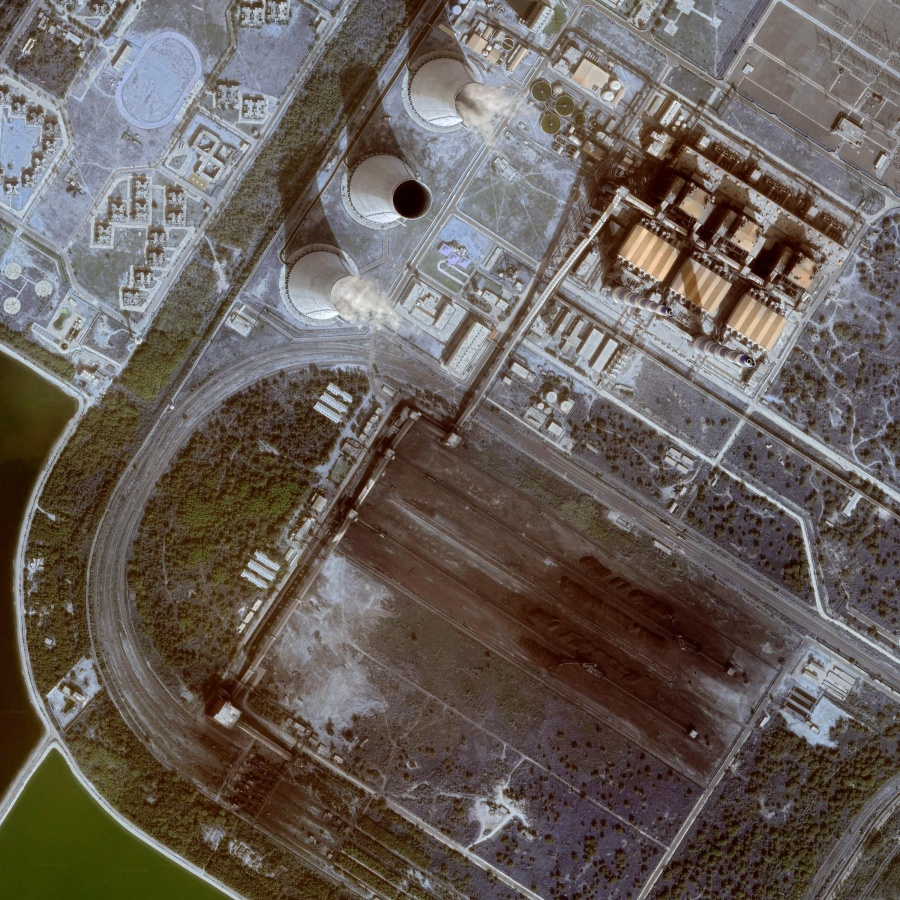PowerPlant: (320, 403, 794, 781)
